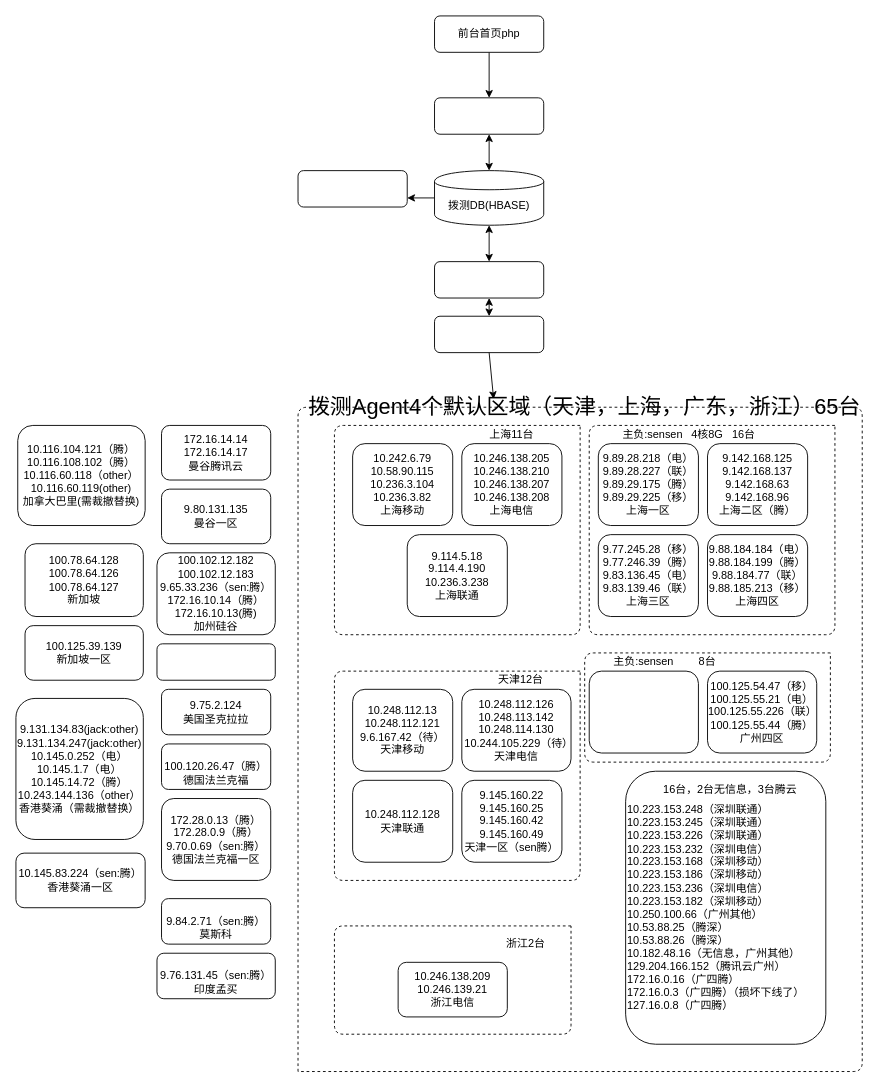
The diagram is 879 pixels wide and 1088 high, and some of its shapes have lost their labels. Here are the shapes that lost their labels. From the top down, the centre of each, then its label:
[489,115]: 数据层API
[352,188]: 告警分析python
[489,279]: 拨测SVR
[489,334]: 拨测Agent
[215,661]: 9.74.139.156（sen） 美国佛吉尼亚
[643,711]: 10.59.187.49（腾） 10.59.195.141（电） 10.59.195.184（联） 9.86.185.78（移） 广州三区
